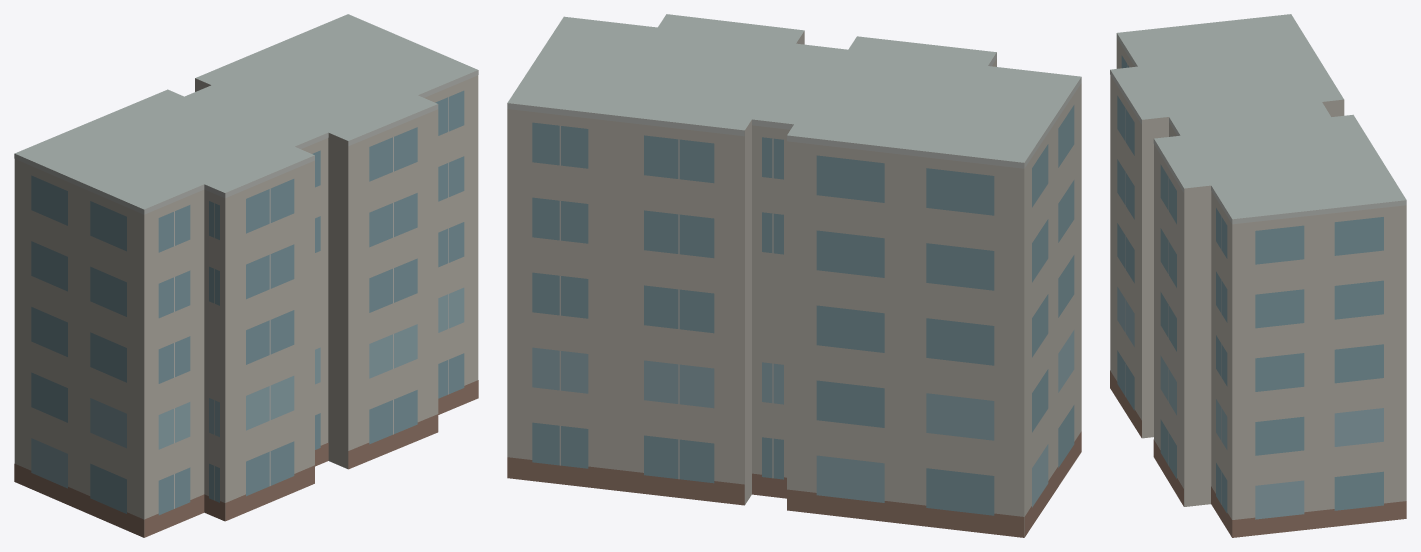
The model's file is survey-upis-32641552.glb.
The picture shows the model from 3 angles, left to right: view 1: azimuth 30°, elevation 25°; view 2: azimuth 150°, elevation 25°; view 3: azimuth 270°, elevation 25°; orthographic projection. The views are drawn at different scales.
Visible parts, largest first — view 1: survey-upis-32641552.tmp; view 2: survey-upis-32641552.tmp; view 3: survey-upis-32641552.tmp.
Boxes of the visible parts, x1=… form: survey-upis-32641552.tmp: x1=14, y1=14, x2=478, y2=537; survey-upis-32641552.tmp: x1=507, y1=14, x2=1081, y2=537; survey-upis-32641552.tmp: x1=1110, y1=14, x2=1406, y2=537.
Size of the model in its own units: 21.29 by 15.4 by 13.
